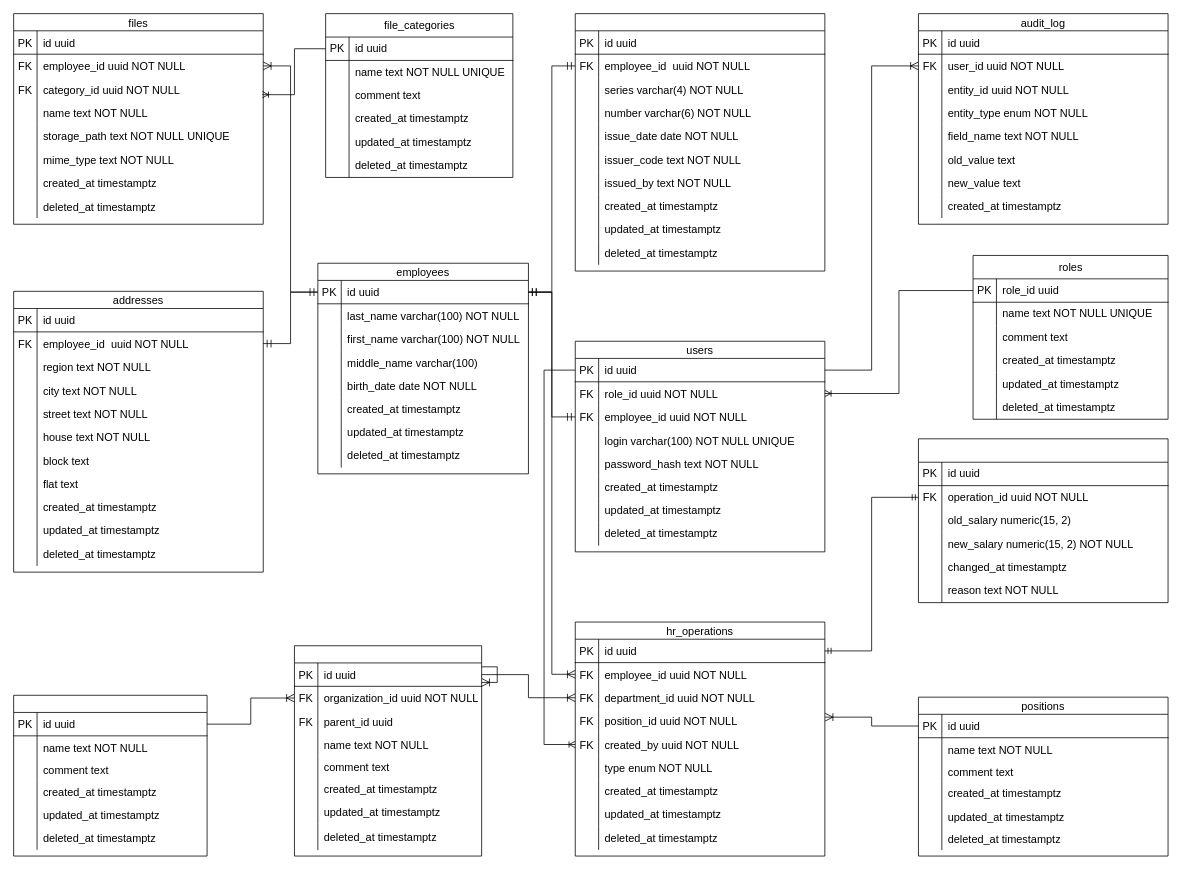
The diagram is 1182 pixels wide and 870 high, and some of its shapes have lost their labels. Here are the shapes that lost their labels. From the top down, the box of each, then its label:
(574, 13, 825, 271): passports
(918, 438, 1168, 603): salary_changes
(294, 645, 482, 856): departments
(13, 695, 207, 856): organizations
